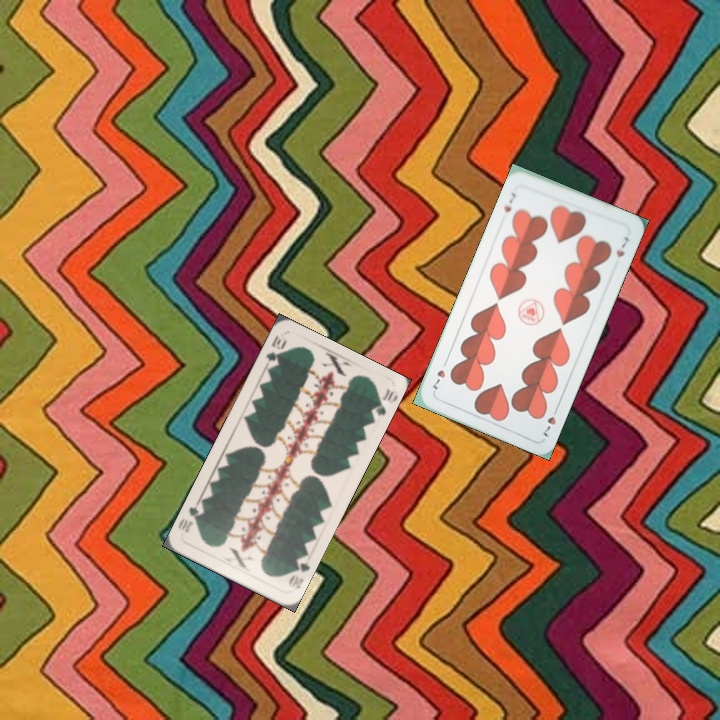G10: (262, 331, 289, 371), (284, 557, 312, 592)
H7: (538, 402, 561, 440), (500, 188, 519, 215)
